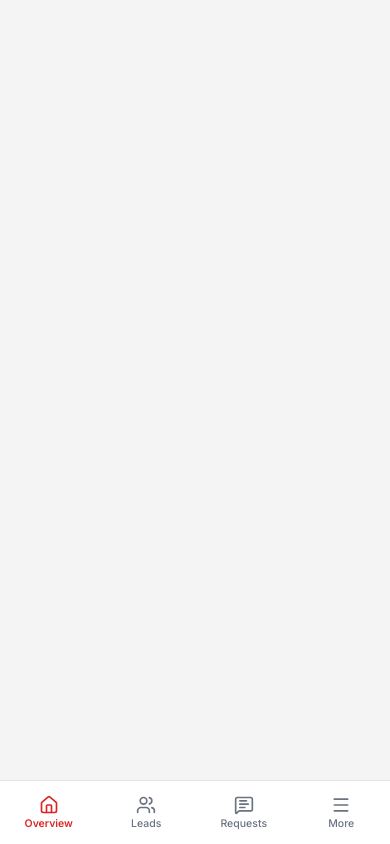
Test: PortalMobileNav › More opens a sheet listing only Coming Soon modules, Account, and Sign out — never an internal route
The width and height of the screenshot is (390, 844).
Click the button "More" at {"x": 341, "y": 812}, box [292,781,389,843]
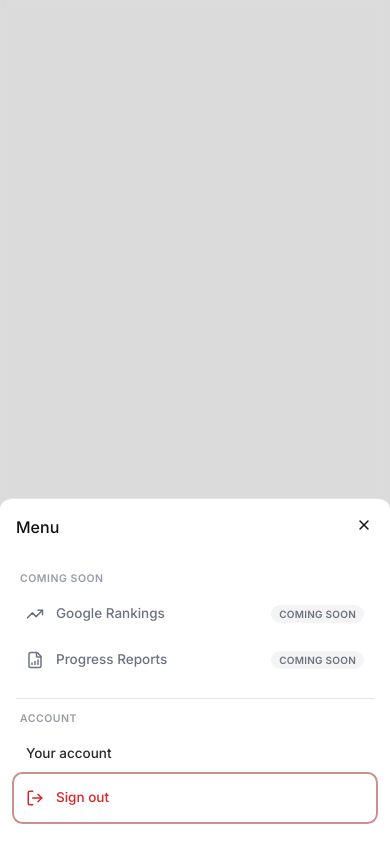
Expected: the dialog shows "Coming soon", [20,572,104,585]
Expected: the dialog shows "Your account", [16,732,374,776]
Expected: the button "Sign out" is shown, [16,776,374,820]
